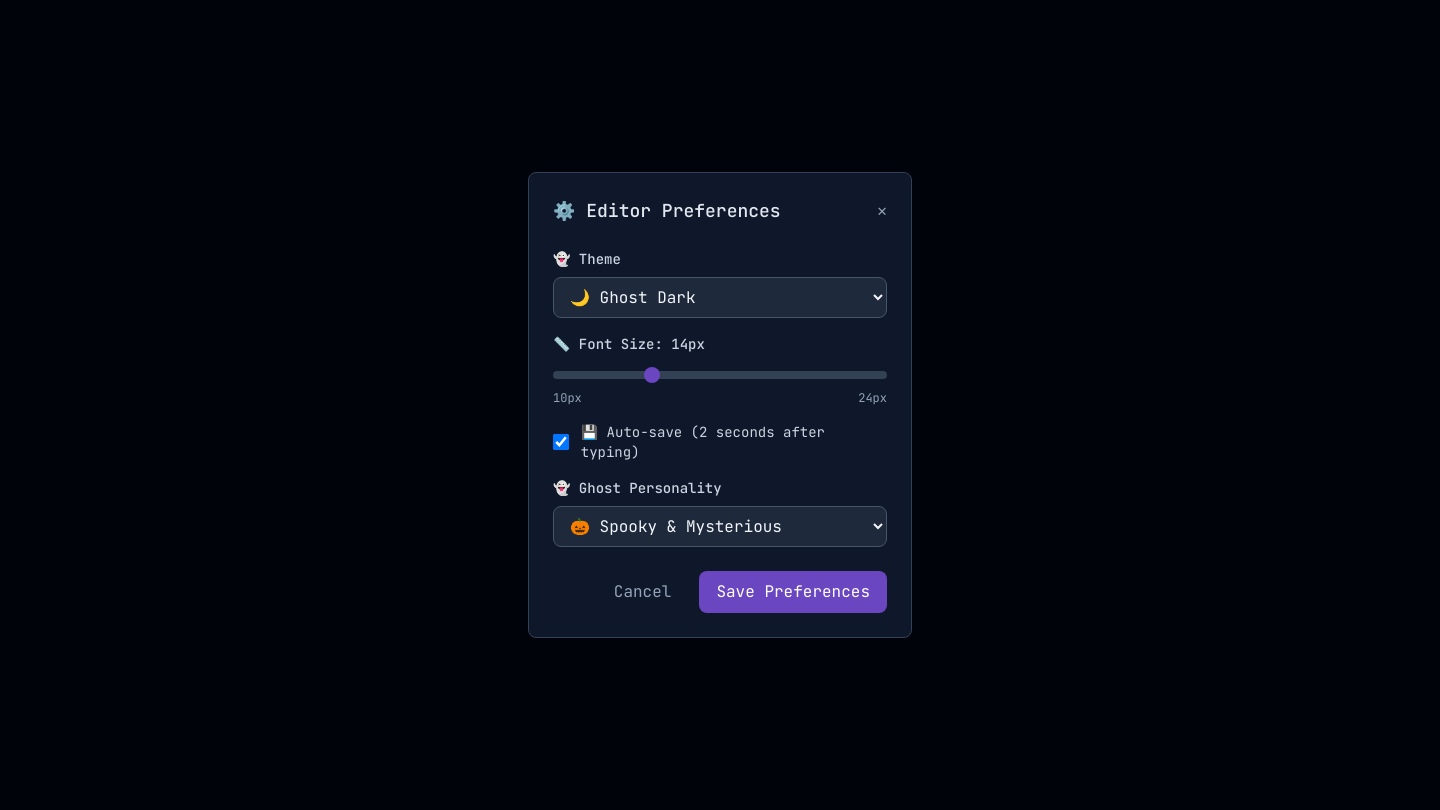
EditorPreferences › updates font size with slider
Set the slider showing "14" to "18" at (743, 375), box [553, 371, 887, 379]
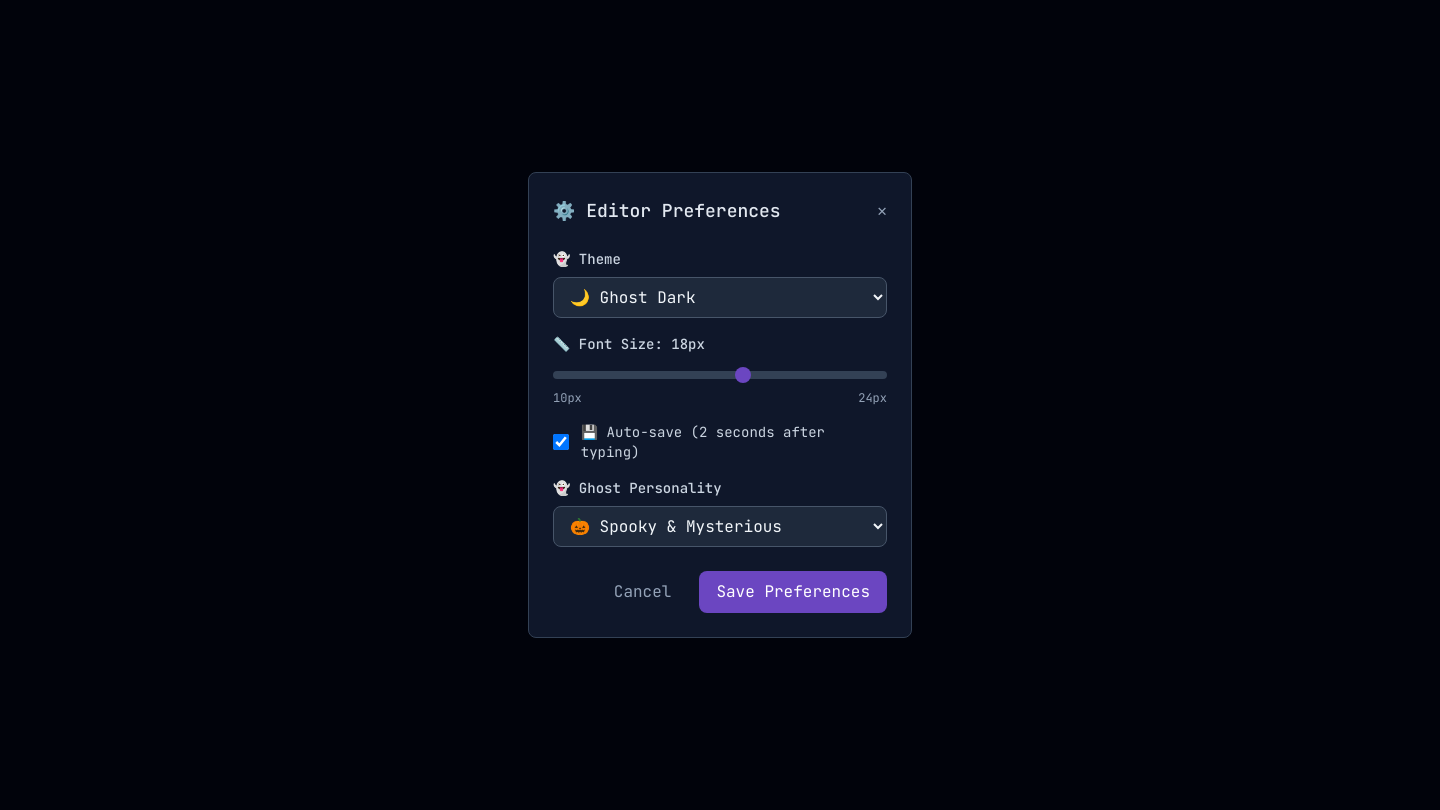
Check: the text "📏 Font Size: 18px" is shown, box [553, 335, 705, 353]
